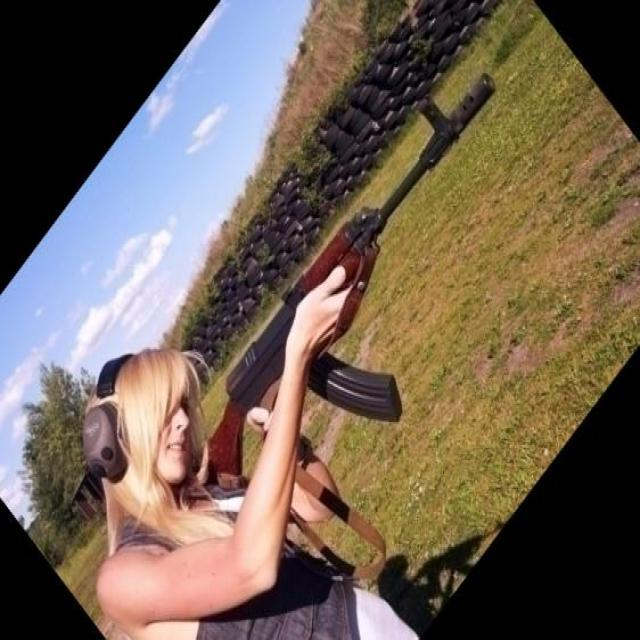weapon: (203, 72, 497, 492)
